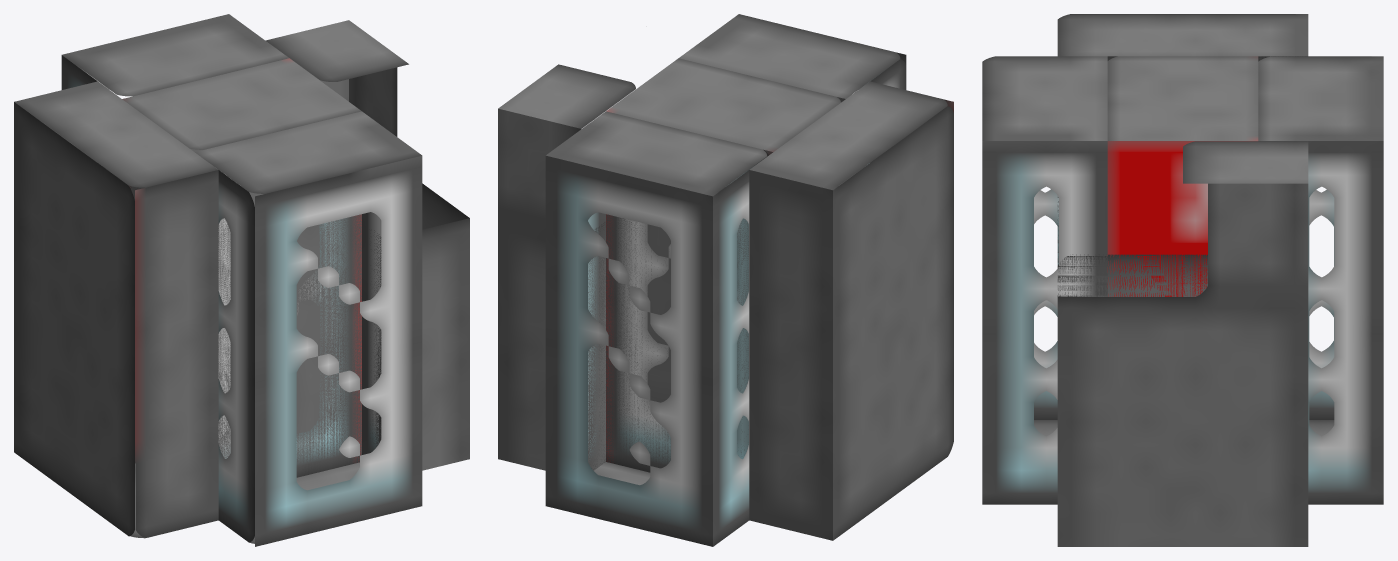
Rendered from refinery.obj.
3 views of the same model, side by side, from view 1: azimuth 30°, elevation 25°; view 2: azimuth 150°, elevation 25°; view 3: azimuth 270°, elevation 25° (orthographic). The views are drawn at different scales.
Bounding box in the file's own units: 1 × 1 × 1.
